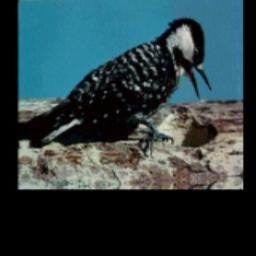Woodpecker: (20, 8, 218, 166)
